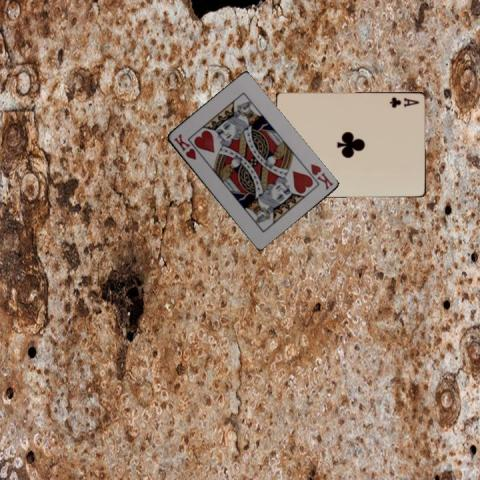Ac: (387, 94, 420, 109)
Kh: (307, 161, 334, 191), (171, 131, 197, 161)
